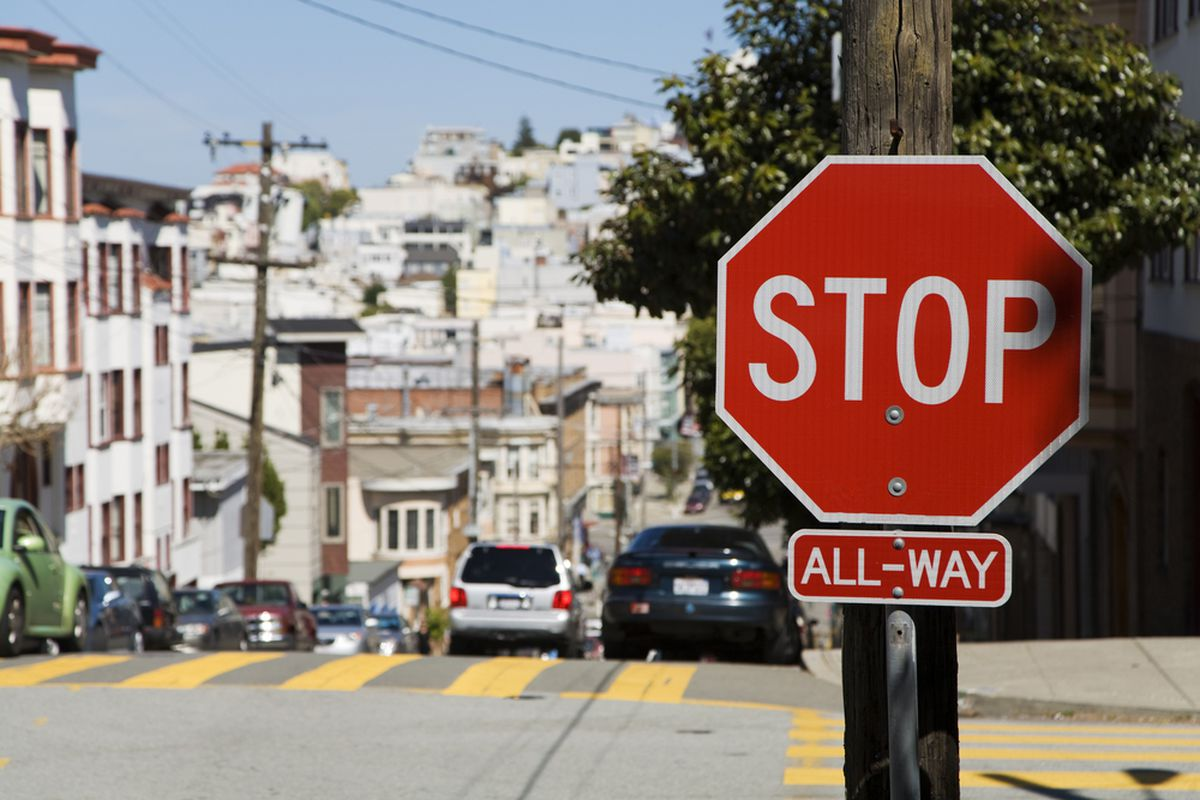stop_sign: (717, 152, 1090, 525)
